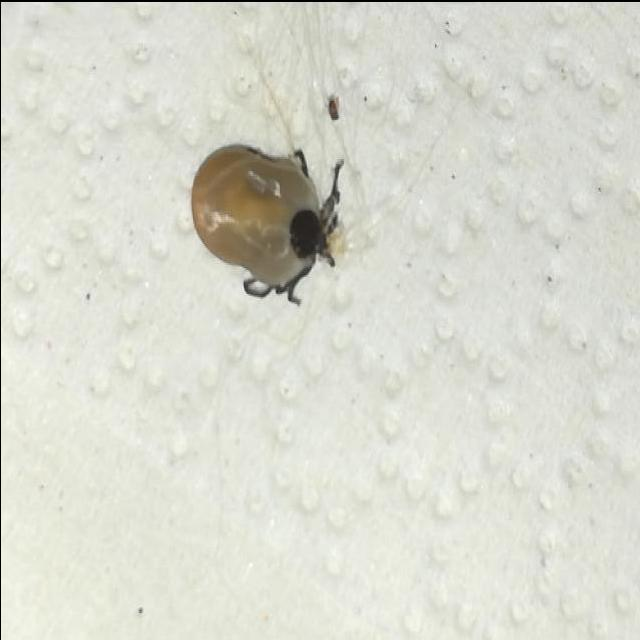Ixodes Ricinus-F-Fed: (187, 140, 340, 302)
